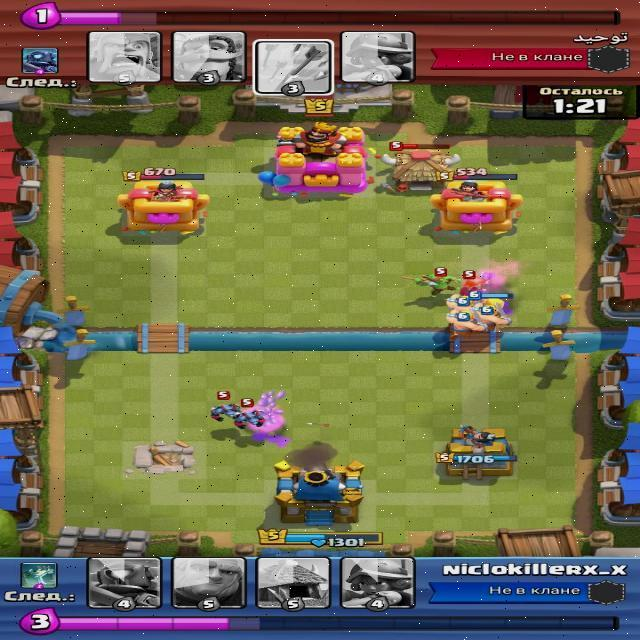EGoblinHut: (381, 142, 459, 192)
EKingTower: (269, 123, 372, 195)
ESpearGoblin: (415, 267, 457, 296)
EValk: (461, 270, 490, 296)
EnemyPrincessTower: (118, 180, 209, 234), (431, 180, 522, 233)
OBarb: (447, 306, 487, 331), (473, 303, 510, 330), (472, 292, 511, 315), (447, 290, 482, 315)
OwnKingTower: (274, 460, 363, 525)
OwnPrincessTower: (435, 426, 516, 477)
TowerDown: (121, 437, 207, 479)
eminion: (231, 398, 271, 430), (210, 391, 241, 421)
